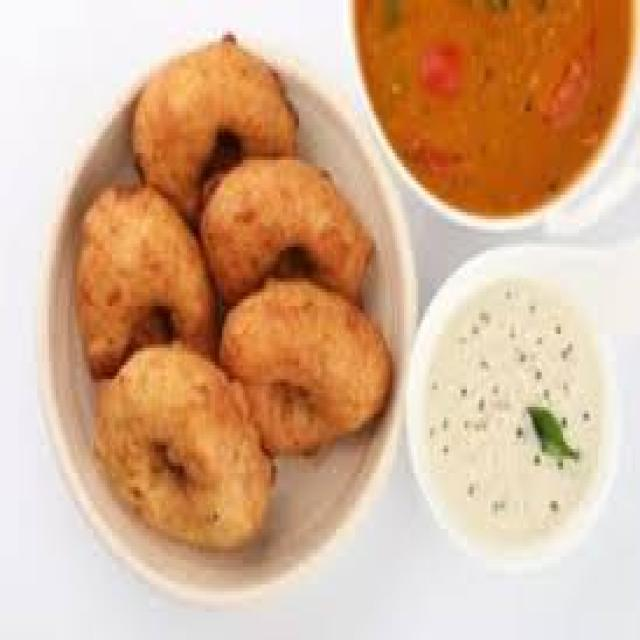MEDU VADA: (94, 352, 269, 549), (125, 39, 297, 220), (223, 277, 391, 453), (78, 183, 209, 377), (200, 164, 369, 306)
